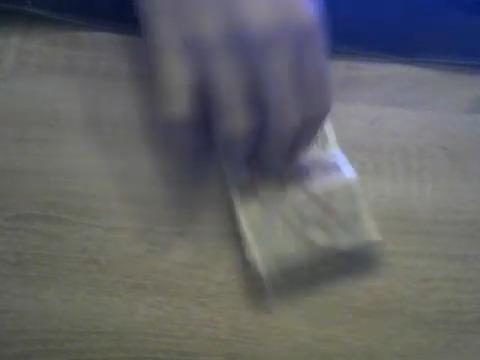10leva: (227, 119, 383, 314)
